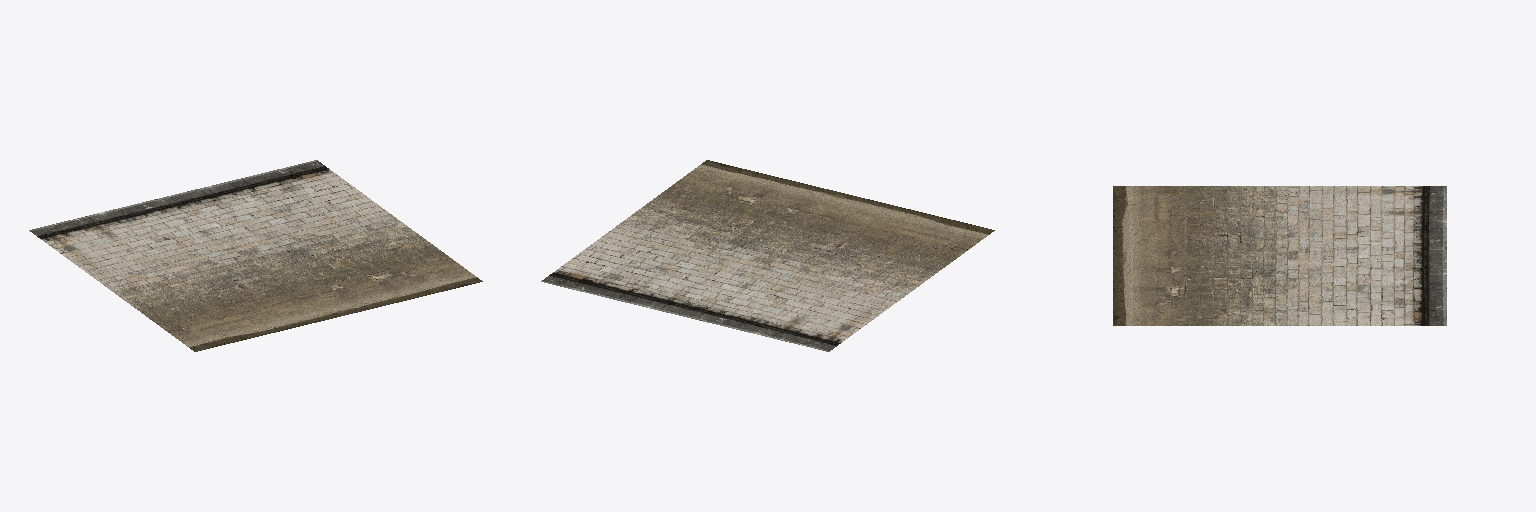
3 renders of one model, left to right at view 1: azimuth 30°, elevation 25°; view 2: azimuth 150°, elevation 25°; view 3: azimuth 270°, elevation 25°, orthographic.
Visible parts, largest first — view 1: Plane; view 2: Plane; view 3: Plane.
Boxes of the visible parts, box(x1,y1,x2,y2) form: Plane: box(29, 160, 482, 351); Plane: box(541, 160, 994, 351); Plane: box(1113, 186, 1446, 325).
Bounding box in the file's own units: 2 × 0 × 2.
Materials: 1 (1 with a texture image).